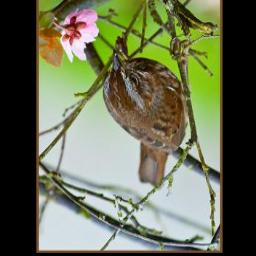Sparrow: (101, 35, 196, 190)
